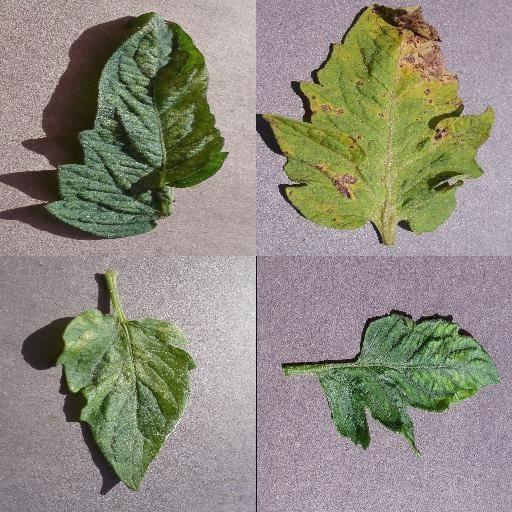Mosaic Virus: (319, 312, 501, 456)
Septoria: (266, 3, 494, 233)
Spider Mites: (48, 11, 229, 237), (57, 308, 195, 492)
